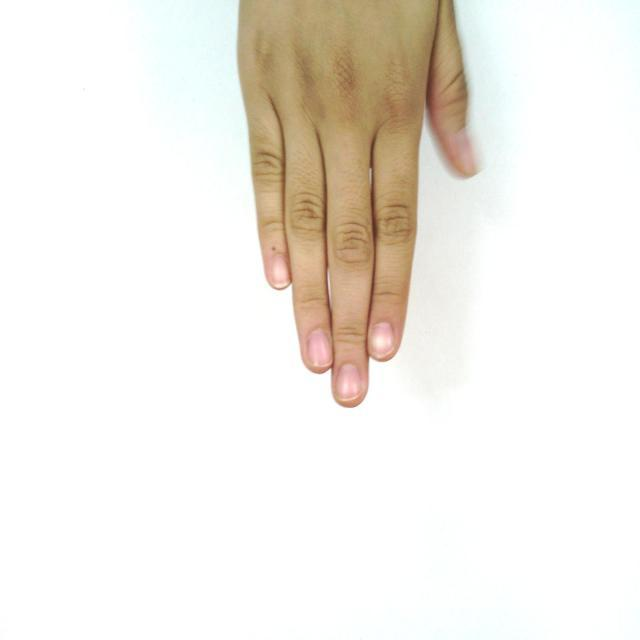Fingernail: (450, 130, 481, 174), (369, 322, 395, 357), (337, 364, 361, 400), (309, 330, 331, 367), (271, 256, 289, 286)
